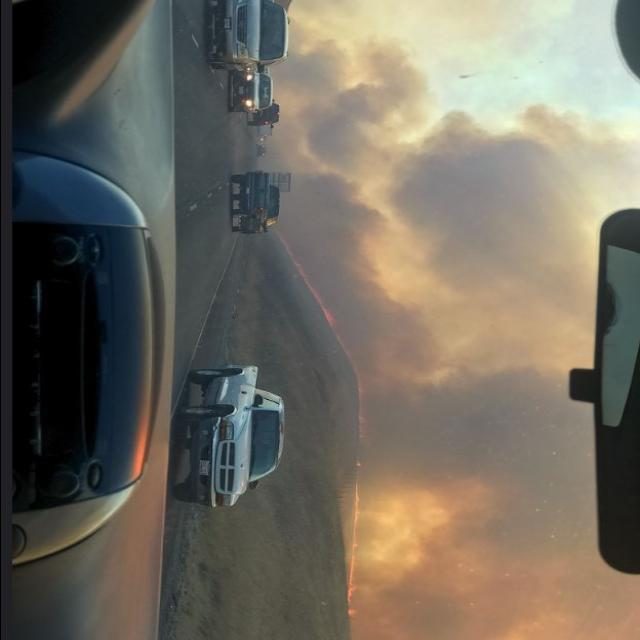Fire: (276, 232, 334, 328), (340, 484, 370, 618)
